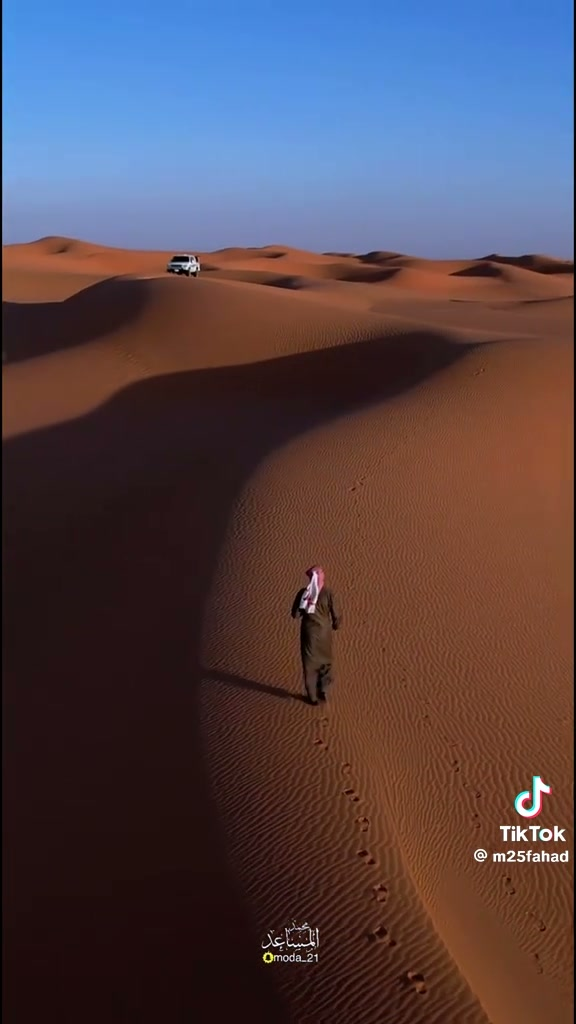human_footprint: (291, 566, 339, 704), (367, 925, 396, 947), (400, 970, 426, 993), (527, 911, 546, 931), (372, 883, 387, 902), (342, 787, 359, 802), (357, 850, 375, 864), (355, 816, 369, 831), (532, 953, 542, 973), (505, 875, 515, 894), (450, 758, 460, 773), (314, 736, 326, 748), (341, 762, 351, 775), (473, 813, 480, 828)
